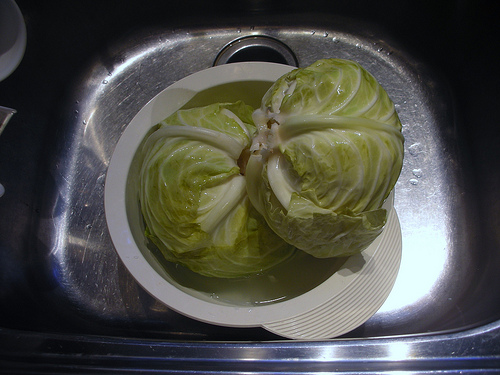cabbage: (248, 57, 406, 259), (136, 99, 302, 282)
